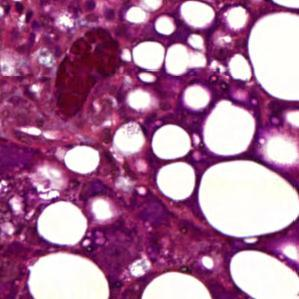steatosis: (200, 163, 299, 236), (201, 102, 257, 160), (37, 202, 94, 245), (152, 121, 191, 161), (155, 160, 195, 199), (62, 143, 99, 174), (131, 41, 168, 71)
